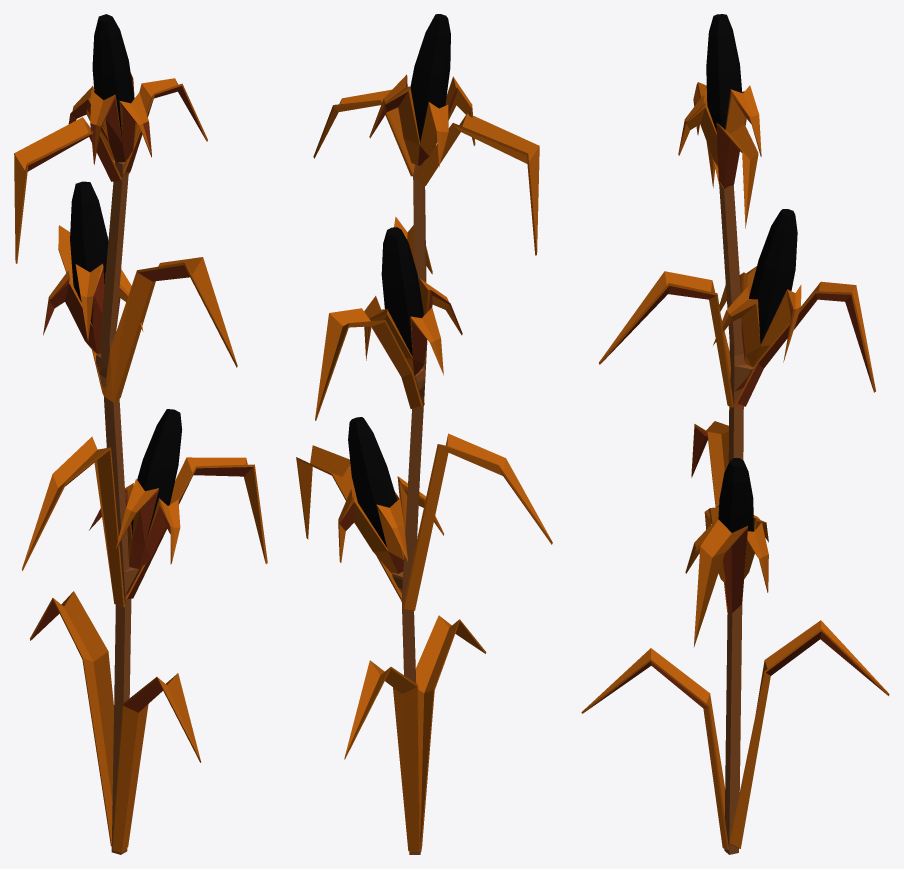
Rendered from Corn_L_Dead.fbx.
The picture shows the model from 3 angles, left to right: view 1: azimuth 30°, elevation 25°; view 2: azimuth 150°, elevation 25°; view 3: azimuth 270°, elevation 25°; orthographic projection. The views are drawn at different scales.
Visible parts, largest first — view 1: Corn_L_Dead, Corn_Dead_03, Corn_Dead_01, Corn_Dead_02; view 2: Corn_L_Dead, Corn_Dead_03, Corn_Dead_01, Corn_Dead_02; view 3: Corn_L_Dead, Corn_Dead_02, Corn_Dead_03, Corn_Dead_01.
Part boxes in pixels (bbox=[...]): Corn_L_Dead: bbox=[14, 78, 267, 854]; Corn_Dead_03: bbox=[68, 14, 151, 164]; Corn_Dead_01: bbox=[89, 409, 182, 568]; Corn_Dead_02: bbox=[43, 181, 143, 353]; Corn_L_Dead: bbox=[296, 89, 552, 854]; Corn_Dead_03: bbox=[369, 14, 475, 166]; Corn_Dead_01: bbox=[338, 417, 443, 573]; Corn_Dead_02: bbox=[364, 227, 462, 375]; Corn_L_Dead: bbox=[581, 122, 889, 854]; Corn_Dead_02: bbox=[713, 209, 801, 366]; Corn_Dead_03: bbox=[678, 14, 761, 168]; Corn_Dead_01: bbox=[685, 458, 768, 592].
Size of the model in its own units: 44.87 by 146 by 49.45.
